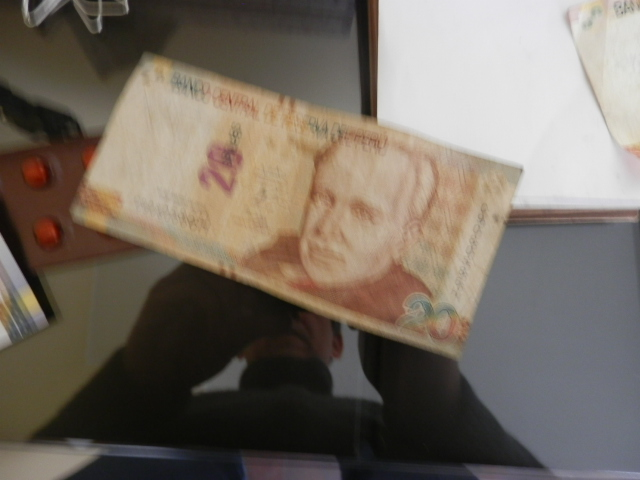B20: (98, 57, 493, 366)
